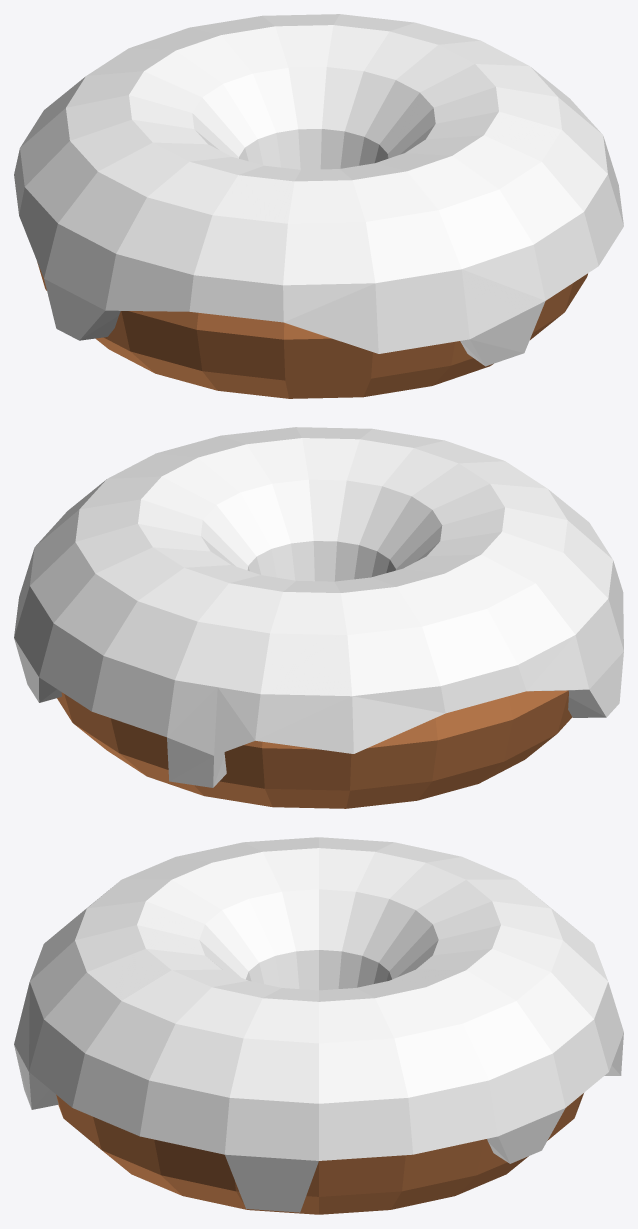
File: donut.glb
3 renders of one model, top to bottom at view 1: azimuth 30°, elevation 25°; view 2: azimuth 150°, elevation 25°; view 3: azimuth 270°, elevation 25°, orthographic. The views are drawn at different scales.
Parts seen in each view (by area): view 1: change_my_color_donut_001, change_my_color_donut; view 2: change_my_color_donut_001, change_my_color_donut; view 3: change_my_color_donut_001, change_my_color_donut.
Part boxes in pixels (x1,y1,x2,y2): change_my_color_donut_001: (14,14,623,366); change_my_color_donut: (37,262,587,398); change_my_color_donut_001: (14,427,623,787); change_my_color_donut: (57,690,572,808); change_my_color_donut_001: (14,837,623,1212); change_my_color_donut: (56,1093,583,1214).
Bounding box in the file's own units: 4.31 × 1.58 × 4.29.
